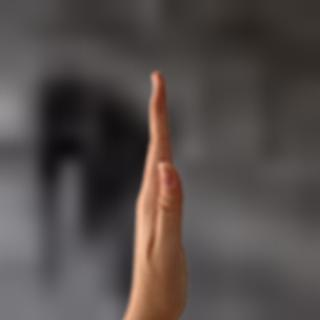Right: (106, 66, 210, 315)
